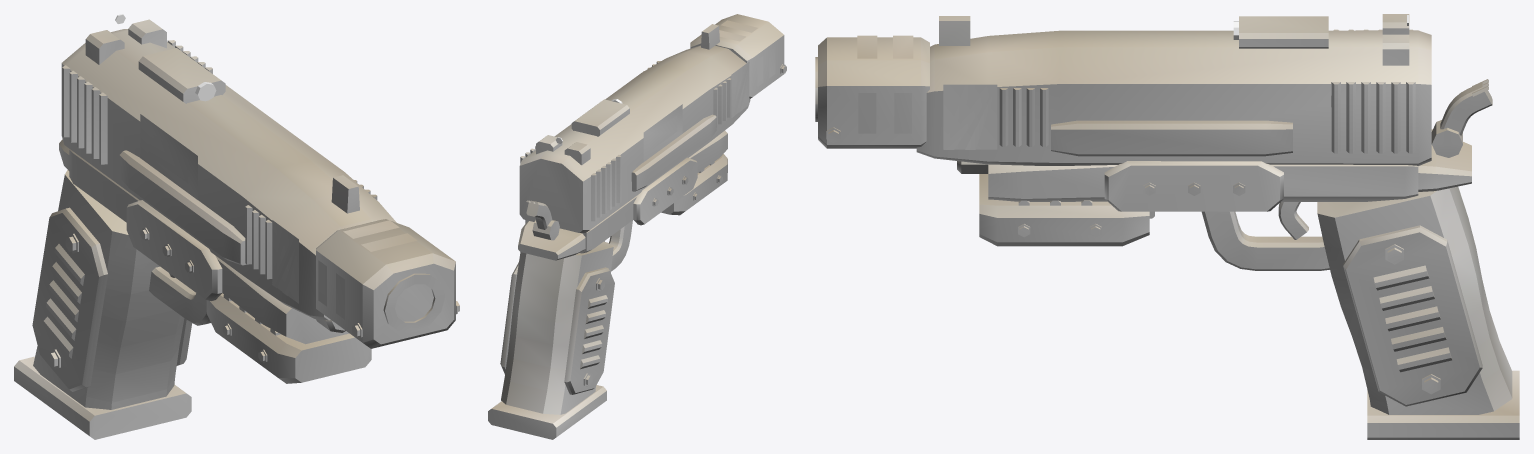
Rendered from hand-cannon-h.glb.
3 views of the same model, side by side, from view 1: azimuth 30°, elevation 25°; view 2: azimuth 150°, elevation 25°; view 3: azimuth 270°, elevation 25° (orthographic). The views are drawn at different scales.
Parts seen in each view (by area): view 1: Body, Slide, Barrel; view 2: Body, Slide, Barrel, Hammer; view 3: Body, Slide, Barrel, Hammer.
Part boxes in pixels (x1,y1,x2,y2): Body: [14, 139, 371, 439]; Slide: [61, 14, 396, 320]; Barrel: [316, 219, 459, 348]; Body: [488, 130, 727, 439]; Slide: [519, 24, 750, 232]; Barrel: [690, 14, 786, 98]; Hammer: [526, 200, 559, 240]; Body: [957, 129, 1519, 439]; Slide: [916, 14, 1431, 165]; Barrel: [815, 35, 929, 148]; Hammer: [1431, 79, 1492, 157].
Bounding box in the file's own units: 0.3665 × 1.13 × 1.8.
